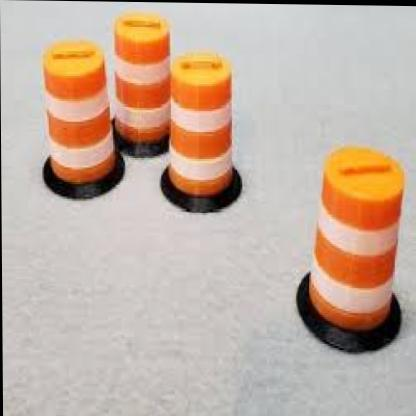obstacle: (311, 147, 405, 341), (38, 44, 120, 187), (170, 54, 235, 194)
